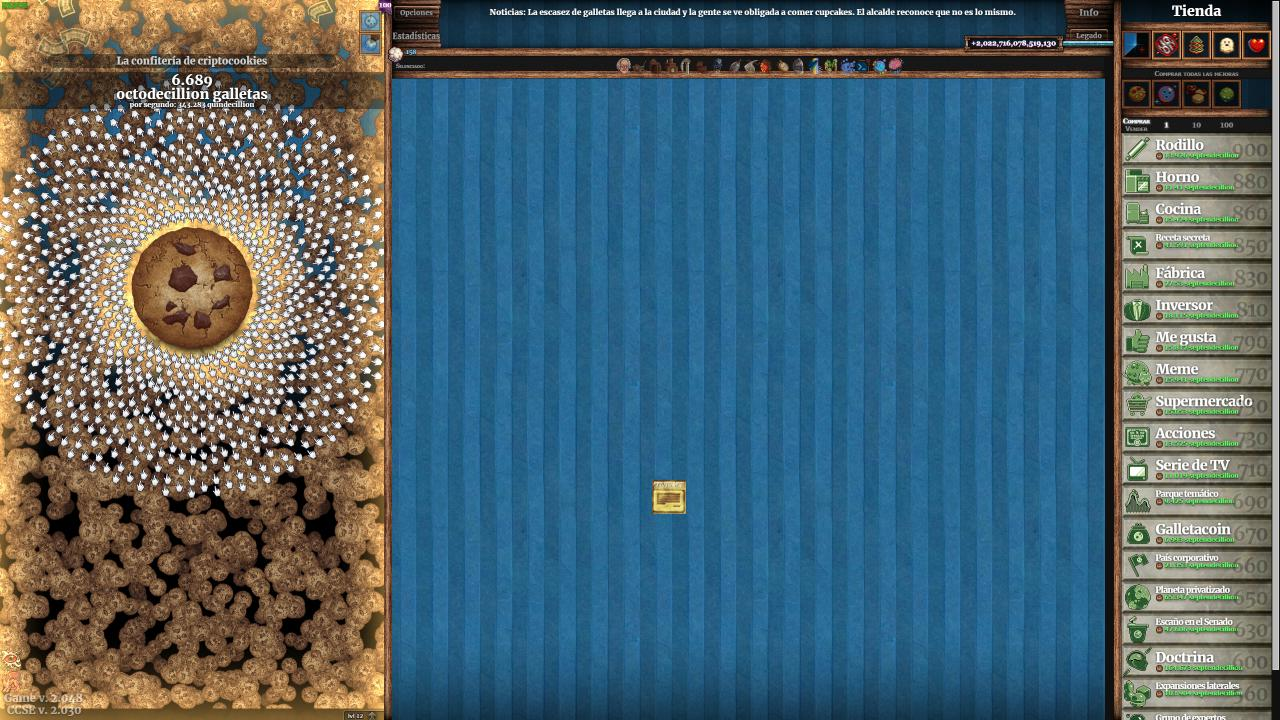GoldenCartridge: (650, 478, 690, 517)
